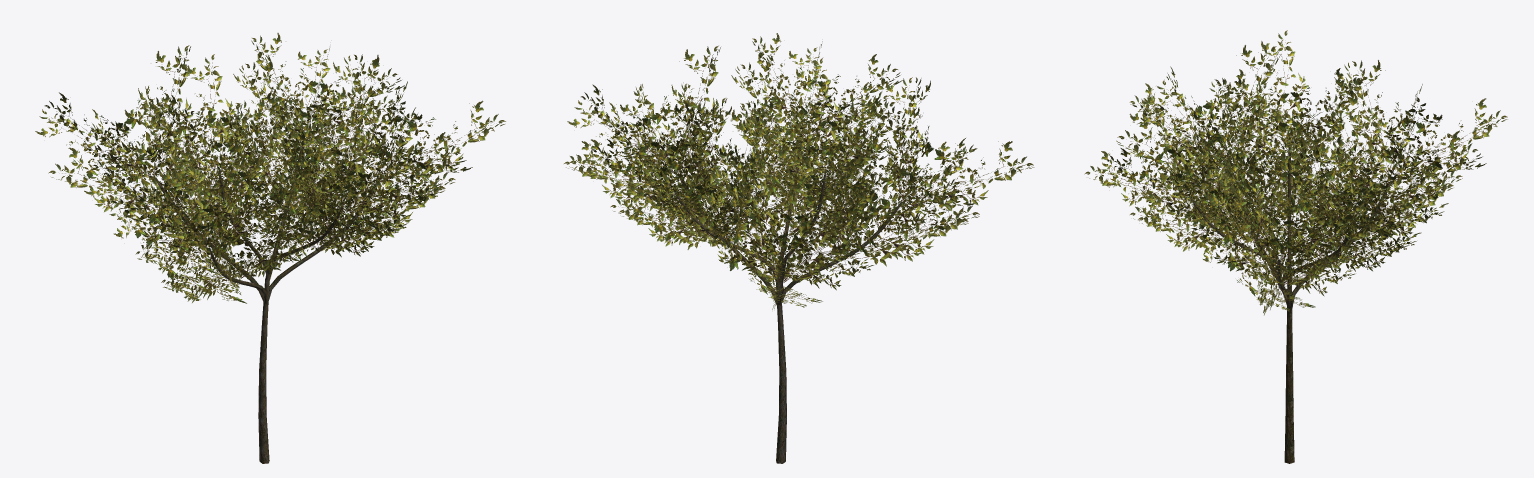
File: tree6.FBX
3 renders of one model, left to right at view 1: azimuth 30°, elevation 25°; view 2: azimuth 150°, elevation 25°; view 3: azimuth 270°, elevation 25°, orthographic. The views are drawn at different scales.
Visible parts, largest first — view 1: Cylinder001; view 2: Cylinder001; view 3: Cylinder001.
Boxes of the visible parts, bbox=[...] form: Cylinder001: bbox=[35, 33, 505, 463]; Cylinder001: bbox=[564, 33, 1034, 463]; Cylinder001: bbox=[1084, 30, 1507, 463].
Bounding box in the file's own units: 45.74 × 40.97 × 41.47.
